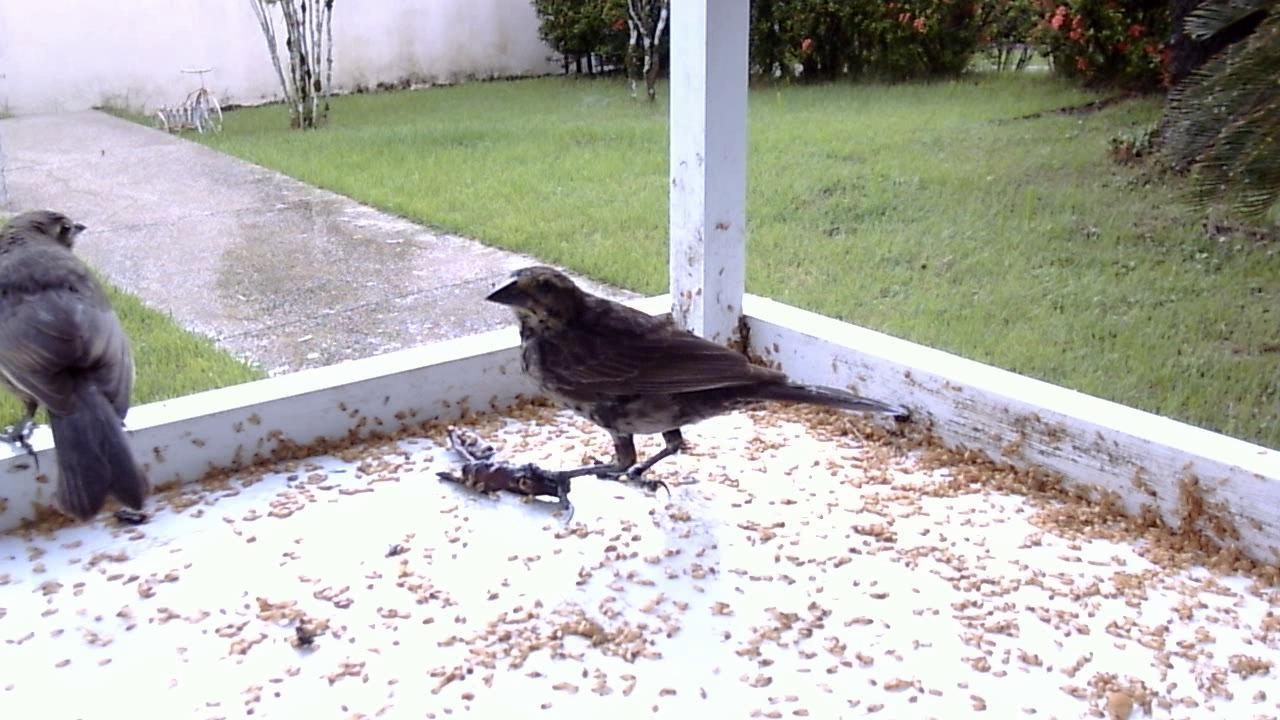chupim: (466, 266, 912, 518), (3, 196, 170, 538)
